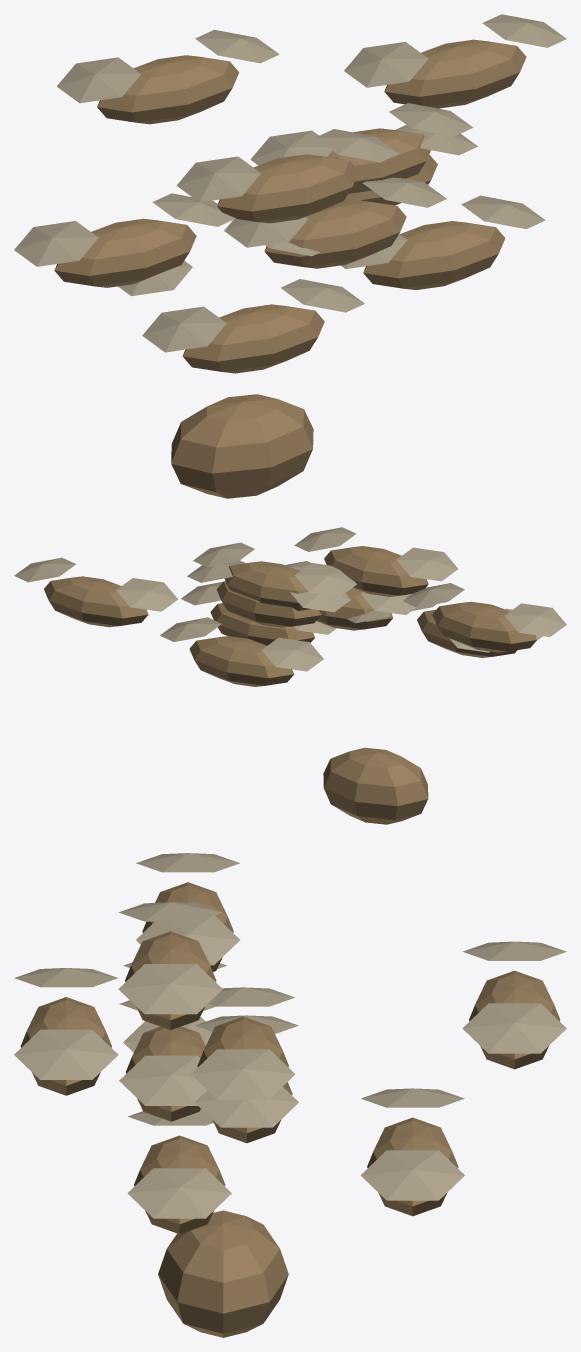
File: swarm.glb
The picture shows the model from 3 angles, top to bottom: view 1: azimuth 30°, elevation 25°; view 2: azimuth 150°, elevation 25°; view 3: azimuth 270°, elevation 25°; orthographic projection. The views are drawn at different scales.
Parts seen in each view (by area): view 1: Bug_0, Bug_7, Bug_8, Bug_1, Bug_6, Bug_5, Bug_9, Bug_2, Bug_4, Wing_6_L, Wing_1_L, Wing_7_L (+16 smaller); view 2: Bug_0, Bug_9, Bug_1, Bug_5, Bug_6, Bug_4, Bug_3, Bug_8, Wing_1_L, Bug_2, Wing_5_L, Wing_6_L (+12 smaller); view 3: Bug_0, Wing_1_R, Wing_4_R, Wing_9_R, Wing_6_R, Wing_7_R, Wing_8_R, Wing_2_R, Bug_9, Bug_1, Bug_8, Bug_6 (+16 smaller).
Part boxes in pixels (box(x1,y1,x2,y2)): Bug_0: box(171, 394, 313, 498); Bug_7: box(182, 304, 324, 373); Bug_8: box(363, 221, 505, 289); Bug_1: box(97, 55, 238, 124); Bug_6: box(217, 154, 358, 223); Bug_5: box(54, 218, 196, 287); Bug_9: box(384, 39, 526, 108); Bug_2: box(264, 199, 406, 268); Bug_4: box(327, 128, 430, 193); Wing_6_L: box(176, 156, 260, 202); Wing_1_L: box(57, 57, 140, 103); Wing_7_L: box(142, 306, 226, 352); Bug_0: box(323, 747, 428, 824); Bug_9: box(44, 576, 148, 627); Bug_1: box(189, 636, 294, 686); Bug_5: box(432, 601, 536, 652); Bug_6: box(324, 546, 428, 596); Bug_4: box(224, 561, 310, 610); Bug_3: box(216, 581, 321, 627); Bug_8: box(210, 603, 314, 645); Wing_1_L: box(262, 637, 323, 671); Bug_2: box(317, 588, 392, 630); Wing_5_L: box(504, 603, 566, 636); Wing_6_L: box(396, 547, 457, 581); Bug_0: box(158, 1210, 288, 1337); Wing_1_R: box(462, 1003, 566, 1053); Wing_4_R: box(191, 1049, 295, 1099); Wing_9_R: box(360, 1150, 464, 1200); Wing_6_R: box(118, 964, 222, 1014); Wing_7_R: box(14, 1029, 118, 1079); Wing_8_R: box(127, 1168, 231, 1218); Wing_2_R: box(119, 1055, 206, 1105); Bug_9: box(367, 1117, 458, 1216); Bug_1: box(469, 970, 560, 1069); Bug_8: box(134, 1135, 225, 1234); Bug_6: box(125, 931, 216, 1029).
Bounding box in the file's own units: 0.53 × 0.2796 × 0.355.
